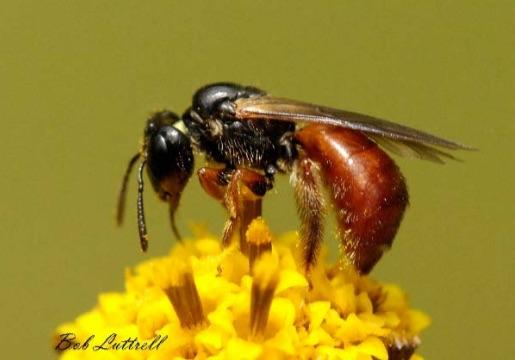Allodapula: (114, 76, 484, 285)
